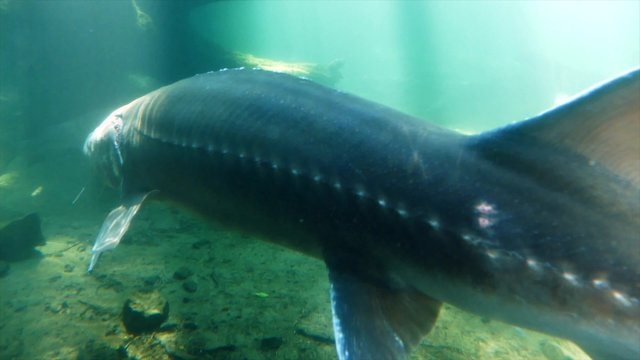Sturgeon: (69, 77, 640, 333)
